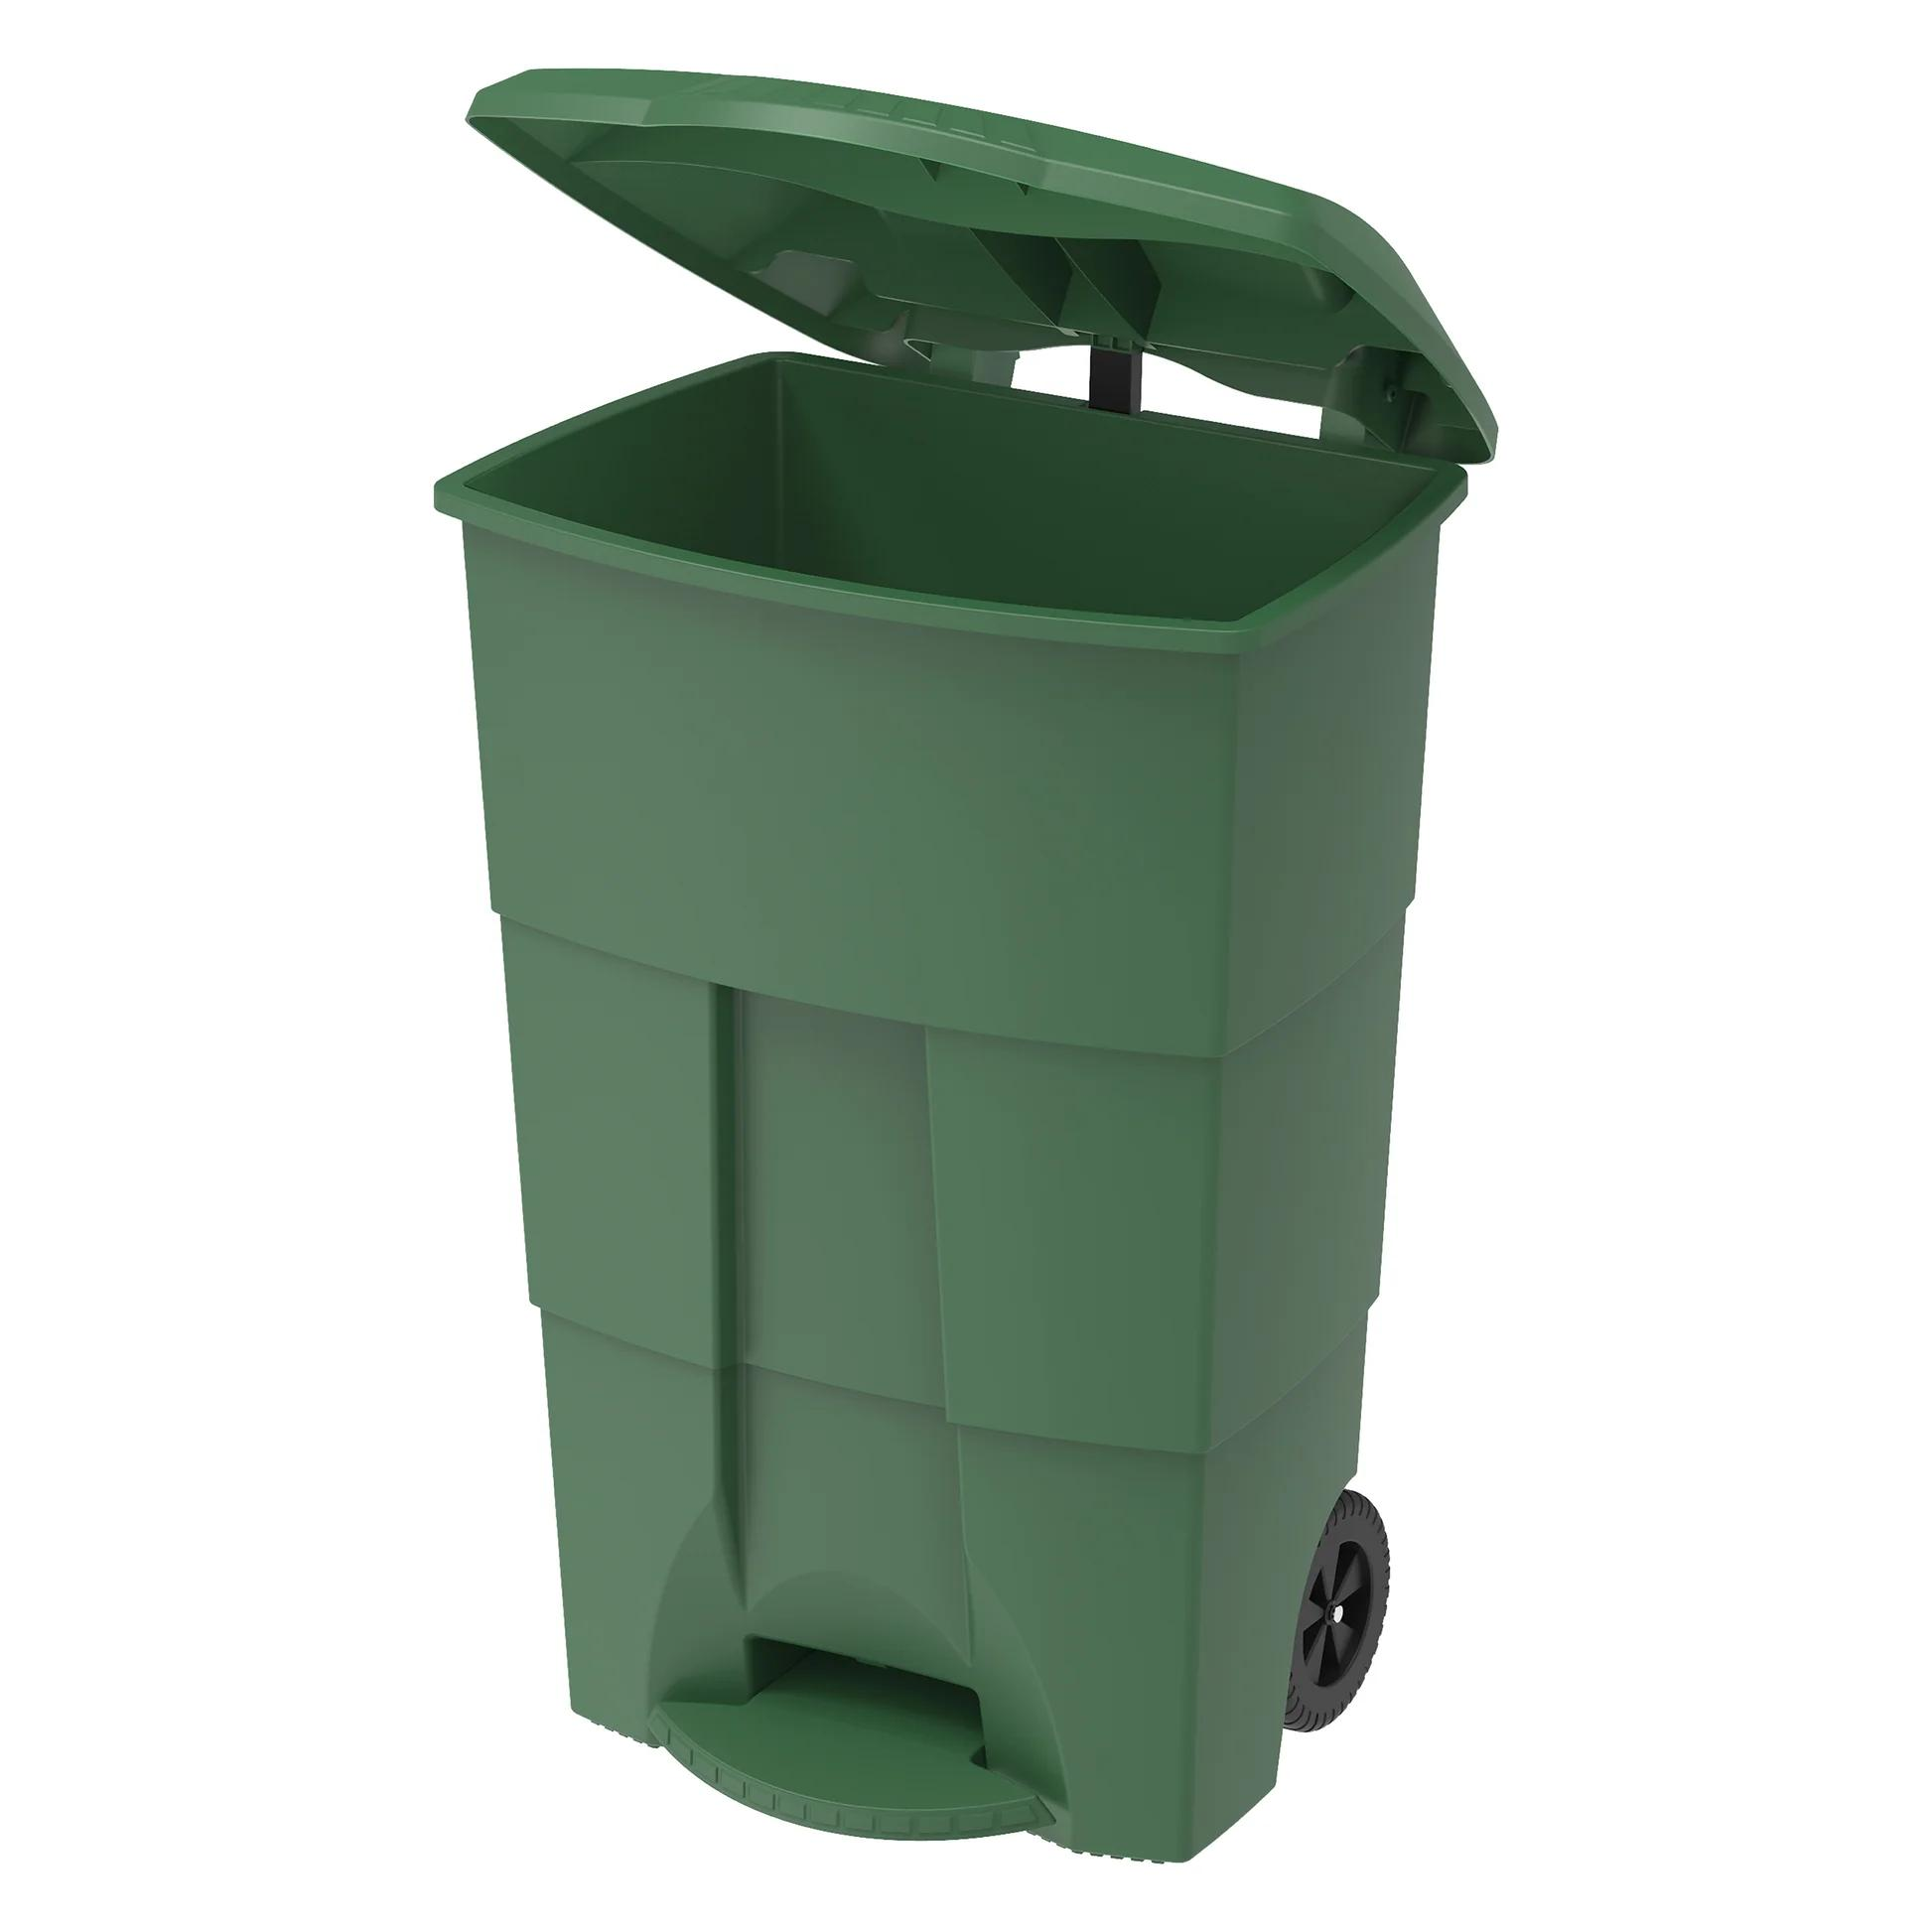trash bin: (384, 53, 1522, 1909)
